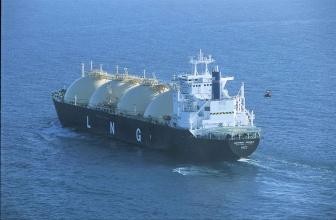Cargoship: (44, 50, 267, 158)
